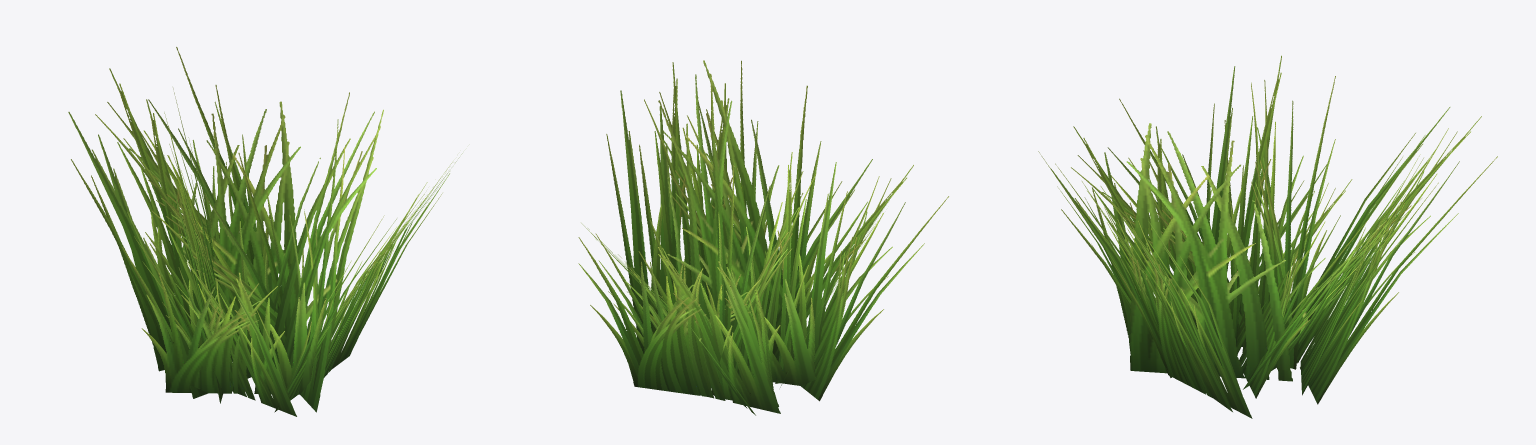
Rendered from Grass_Meadow_C.fbx.
3 renders of one model, left to right at view 1: azimuth 30°, elevation 25°; view 2: azimuth 150°, elevation 25°; view 3: azimuth 270°, elevation 25°, orthographic. The views are drawn at different scales.
Parts seen in each view (by area): view 1: Grass_Meadow_C_LOD0; view 2: Grass_Meadow_C_LOD0; view 3: Grass_Meadow_C_LOD0.
Boxes of the visible parts, x1,y1,x2,y2 form: Grass_Meadow_C_LOD0: [68, 47, 462, 416]; Grass_Meadow_C_LOD0: [578, 60, 948, 415]; Grass_Meadow_C_LOD0: [1038, 55, 1497, 418].
Size of what is drawn, in the model's own units: 0.5698 by 0.4062 by 0.619.
